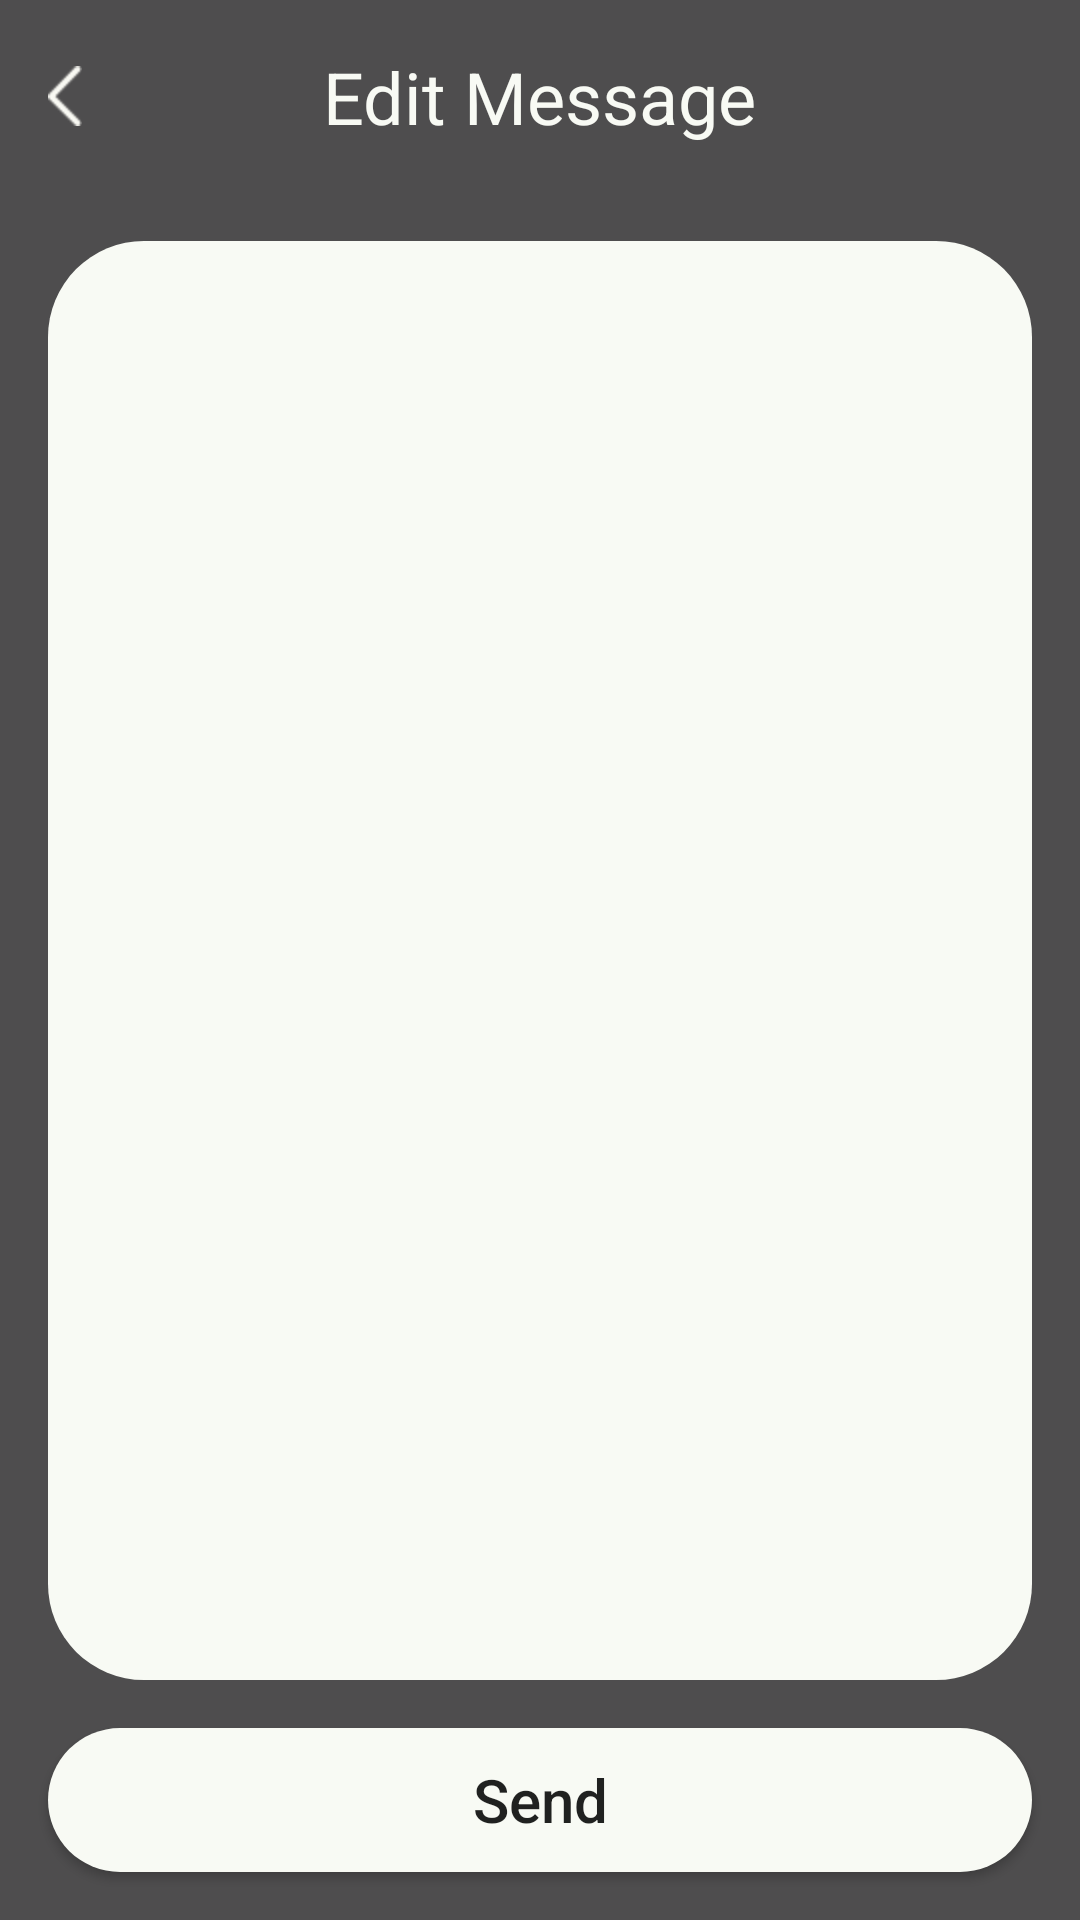

Where to tap for icons on this 1080w x 1920h app screen, as point (x, y):
arrow back: point (65, 96)
